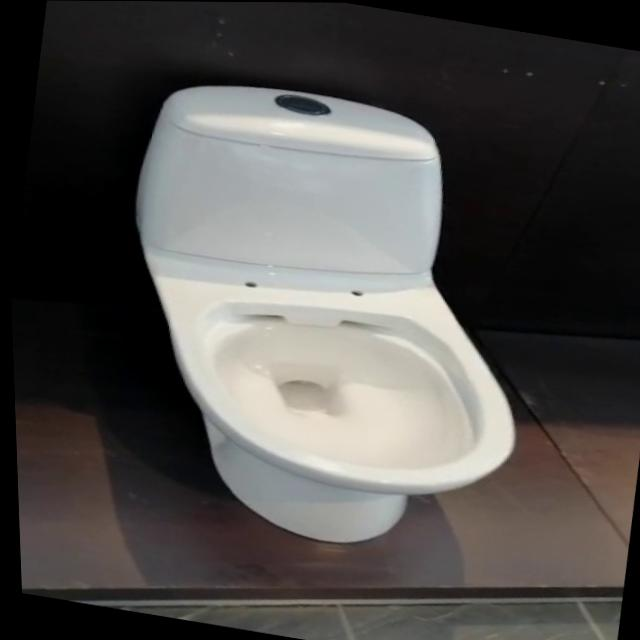toilet: (83, 65, 567, 570)
